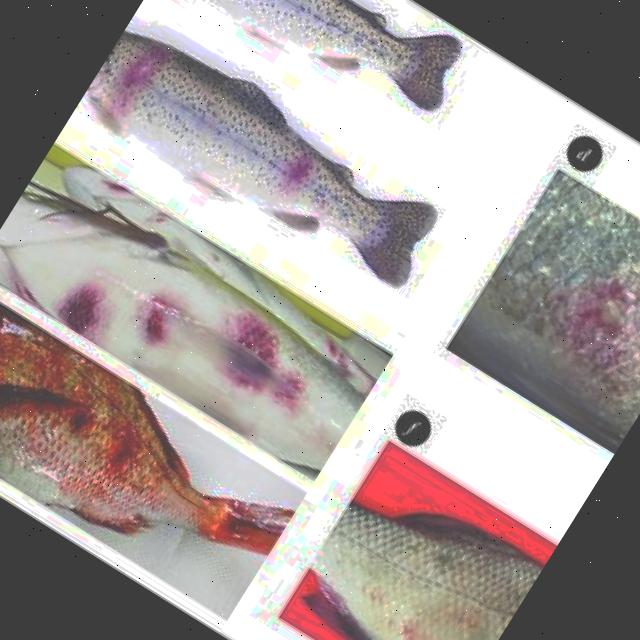Epizootic Ulcerative Syndrome -EUS-: (0, 198, 361, 470), (88, 32, 433, 285)
